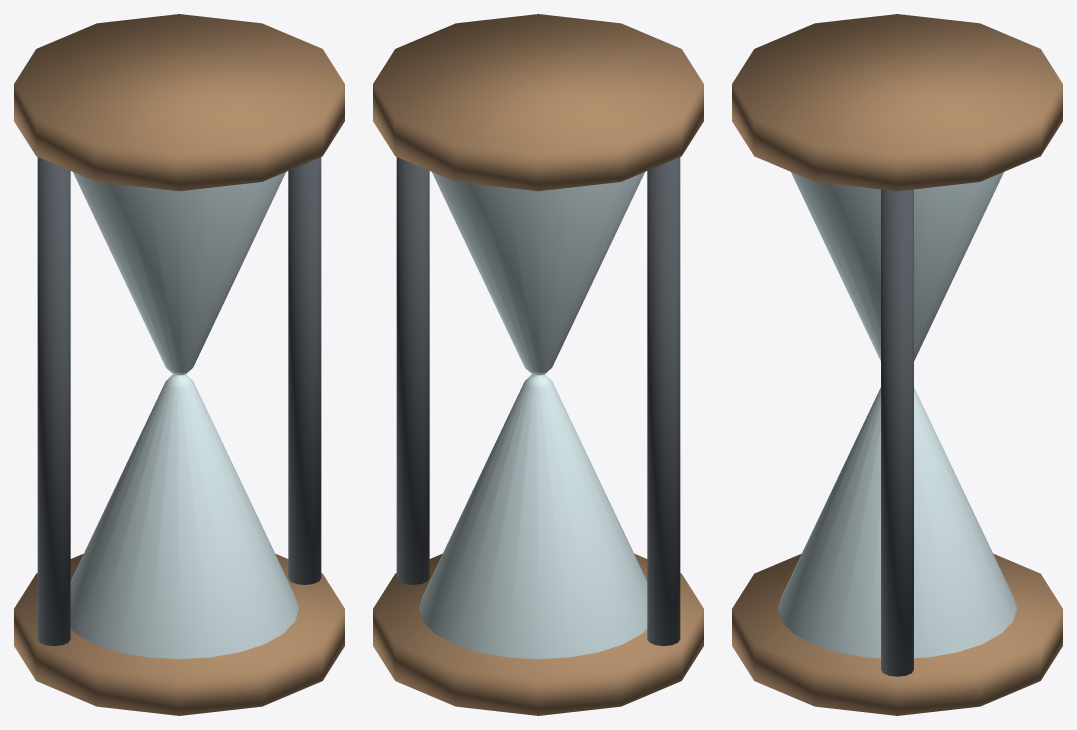
File: atelier-hourglass.glb
3 renders of one model, left to right at view 1: azimuth 30°, elevation 25°; view 2: azimuth 150°, elevation 25°; view 3: azimuth 270°, elevation 25°, orthographic.
Visible parts, largest first — view 1: legs.144, glass.013, metal.104; view 2: legs.144, glass.013, metal.104; view 3: legs.144, glass.013, metal.104.
Part boxes in pixels (box(x1,y1,x2,y2)): legs.144: box(14, 14, 344, 715); glass.013: box(70, 172, 298, 659); metal.104: box(37, 157, 321, 645); legs.144: box(373, 14, 703, 715); glass.013: box(419, 172, 647, 659); metal.104: box(396, 157, 680, 645); legs.144: box(732, 14, 1062, 715); glass.013: box(778, 172, 1016, 658); metal.104: box(881, 189, 913, 676).
Bounding box in the file's own units: 0.16 × 0.3 × 0.16.
